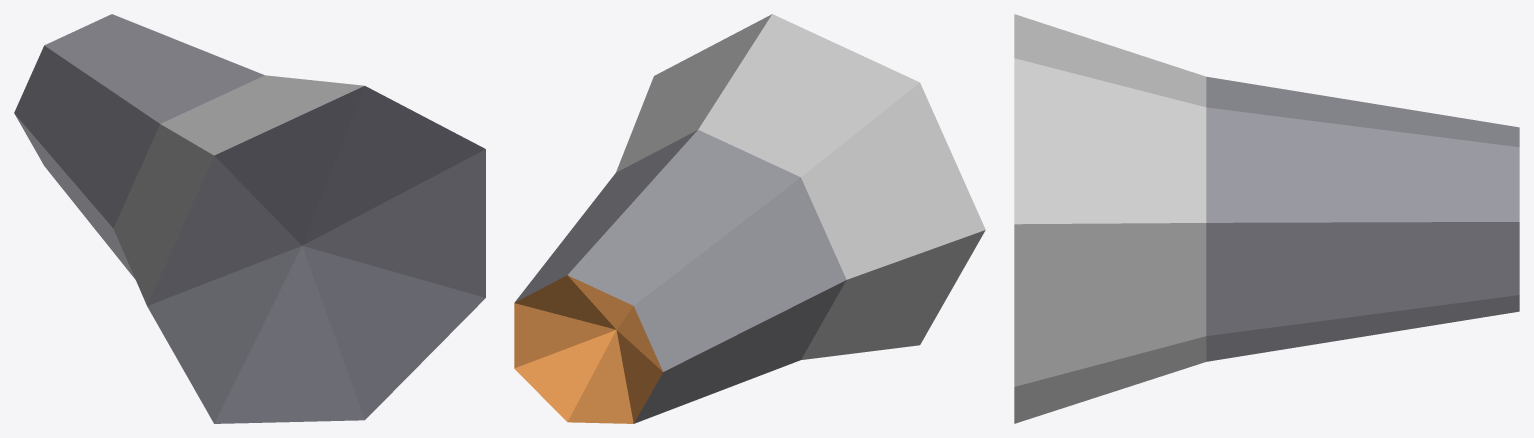
File: engine_nightjar.obj
3 renders of one model, left to right at view 1: azimuth 30°, elevation 25°; view 2: azimuth 150°, elevation 25°; view 3: azimuth 270°, elevation 25°, orthographic. The views are drawn at different scales.
Parts seen in each view (by area): view 1: engine_nightjar; view 2: engine_nightjar; view 3: engine_nightjar.
Part boxes in pixels (bbox=[...]): engine_nightjar: bbox=[14, 14, 485, 423]; engine_nightjar: bbox=[514, 14, 985, 423]; engine_nightjar: bbox=[1014, 14, 1519, 423].
Size of the model in its own units: 2.62 by 2.48 by 3.1.
